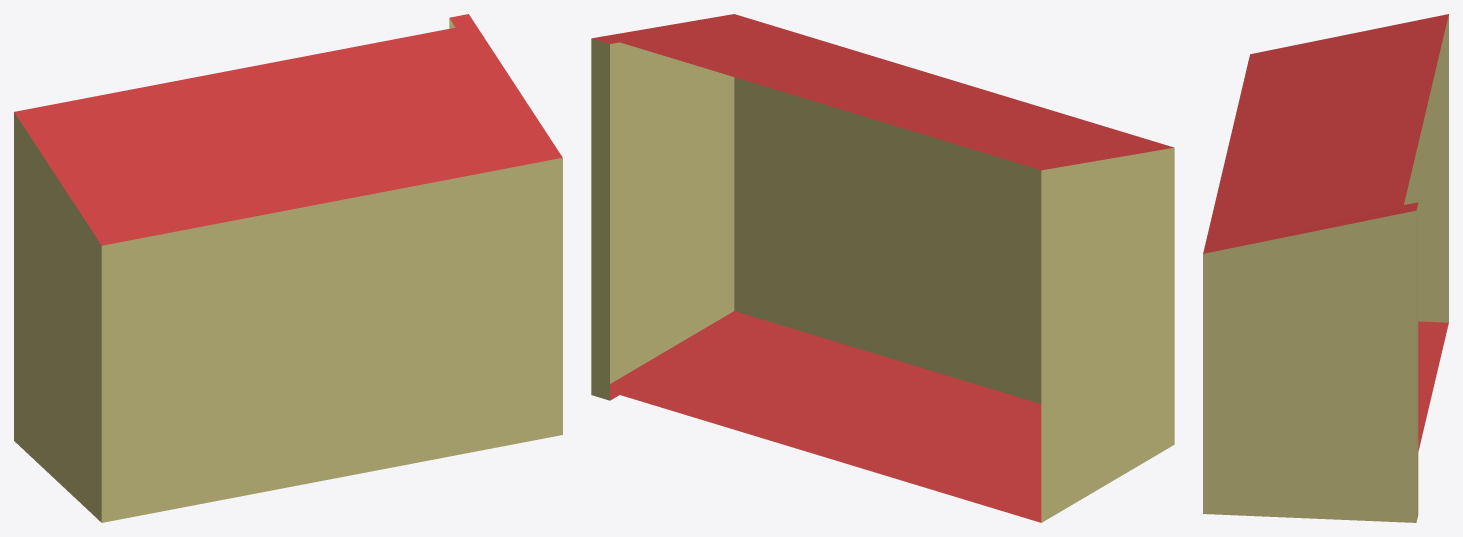
The picture shows the model from 3 angles, left to right: view 1: azimuth 30°, elevation 25°; view 2: azimuth 150°, elevation 25°; view 3: azimuth 270°, elevation 25°; orthographic projection. The views are drawn at different scales.
Bounding box in the file's own units: 7.31 × 3.64 × 5.1.
